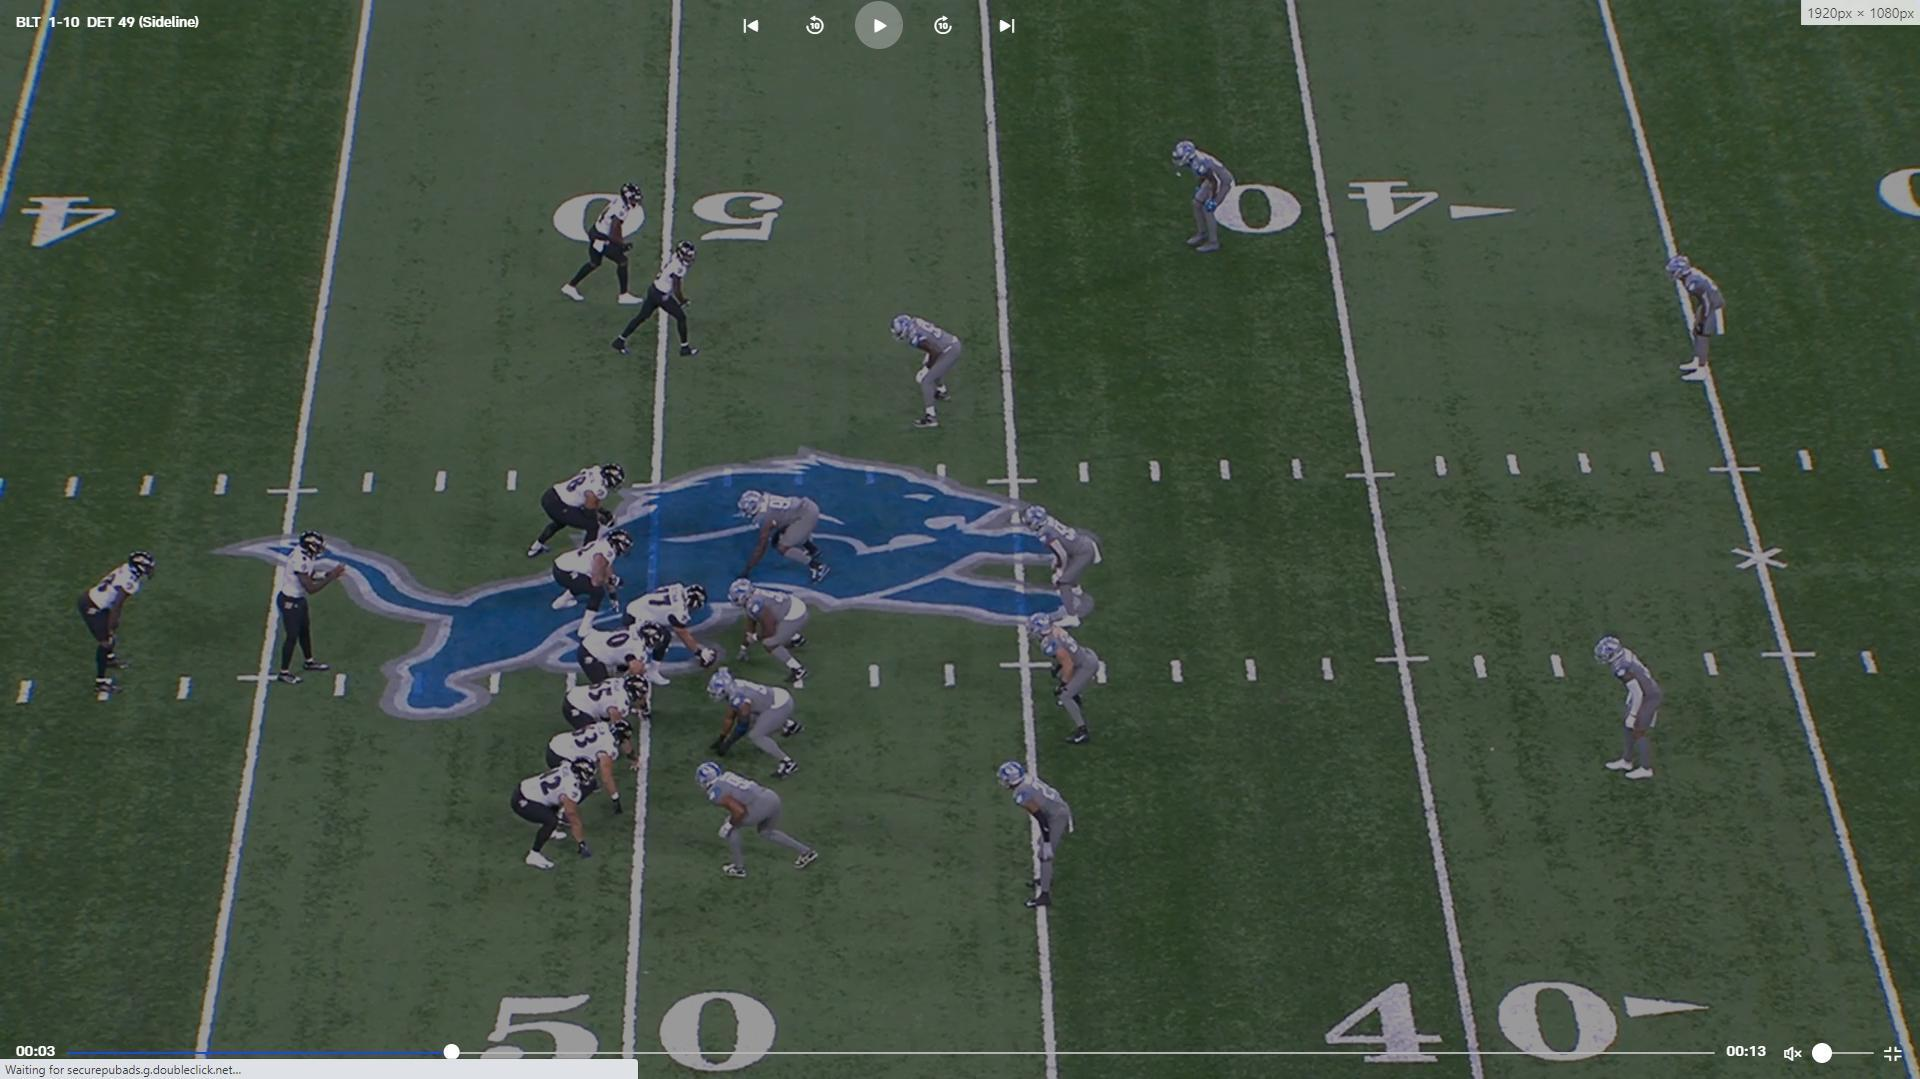player: (700, 761, 827, 882), (68, 548, 153, 704), (563, 174, 659, 310), (607, 236, 708, 363), (1000, 760, 1082, 915), (519, 755, 626, 871), (262, 529, 339, 689), (1597, 633, 1672, 792), (1029, 603, 1107, 752), (713, 673, 809, 781), (526, 456, 625, 559), (892, 308, 972, 434), (543, 714, 638, 818), (1026, 506, 1103, 631), (734, 491, 835, 586), (725, 581, 815, 686), (1665, 254, 1732, 393), (1167, 136, 1239, 264), (578, 625, 665, 721), (561, 677, 650, 762), (547, 536, 633, 623), (619, 581, 702, 670)
